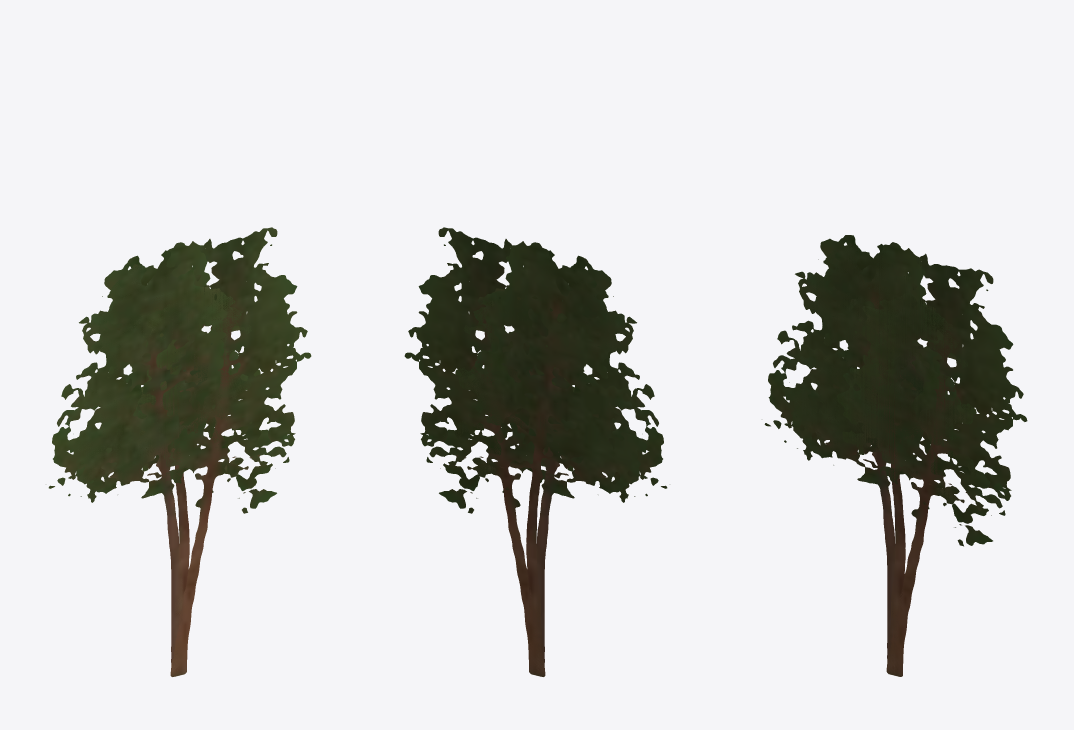
Rendered from akamatsu.lite.glb.
The picture shows the model from 3 angles, left to right: view 1: azimuth 30°, elevation 25°; view 2: azimuth 150°, elevation 25°; view 3: azimuth 330°, elevation 25°; orthographic projection.
Visible parts, largest first — view 1: v2_imp, v0_imp, v1_imp; view 2: v1_imp, v0_imp, v2_imp; view 3: v0_imp, v1_imp, v2_imp.
Boxes of the visible parts, left/top/right/bottom form: v2_imp: left=48, top=250, right=251, bottom=675; v0_imp: left=130, top=227, right=311, bottom=676; v1_imp: left=57, top=241, right=294, bottom=675; v1_imp: left=421, top=241, right=658, bottom=676; v0_imp: left=404, top=227, right=574, bottom=676; v2_imp: left=463, top=250, right=667, bottom=672; v0_imp: left=837, top=253, right=1027, bottom=676; v1_imp: left=773, top=235, right=1010, bottom=676; v2_imp: left=764, top=243, right=967, bottom=676.
Size of what is drawn, in the model's own units: 13.7 by 24.66 by 0.
1 material, 1 textured.
